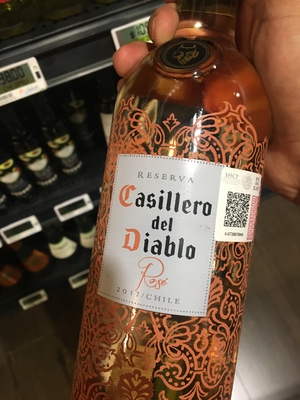casillero del diablo rose: (65, 31, 273, 400)
